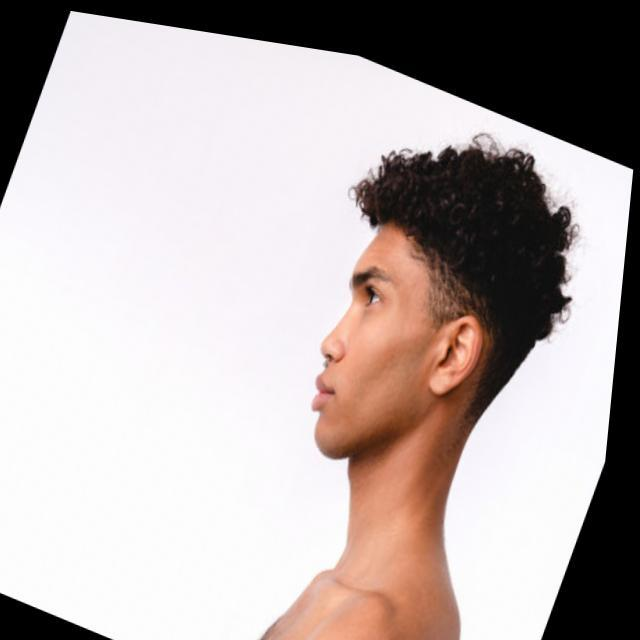Nonhelmet: (302, 129, 582, 468)
